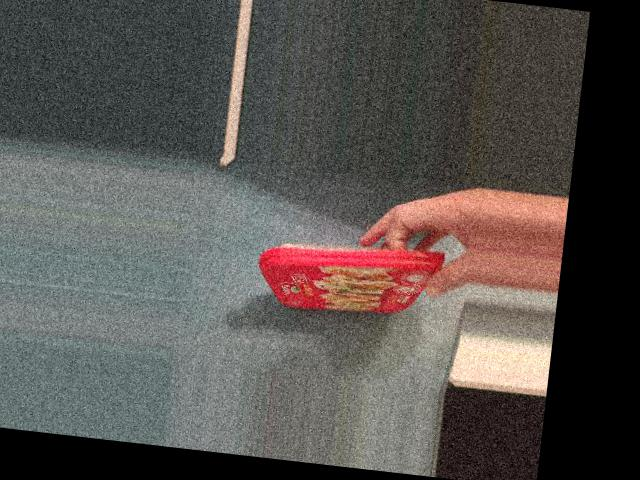cheese: (259, 219, 444, 323)
